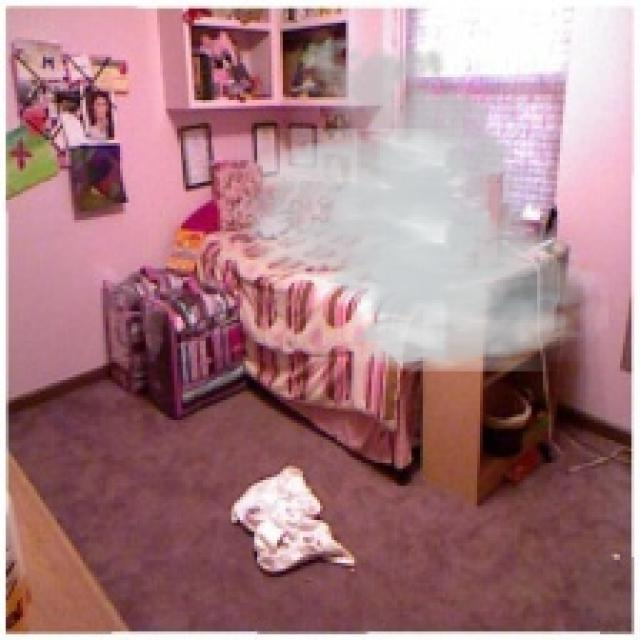smoke: (217, 26, 609, 371)
